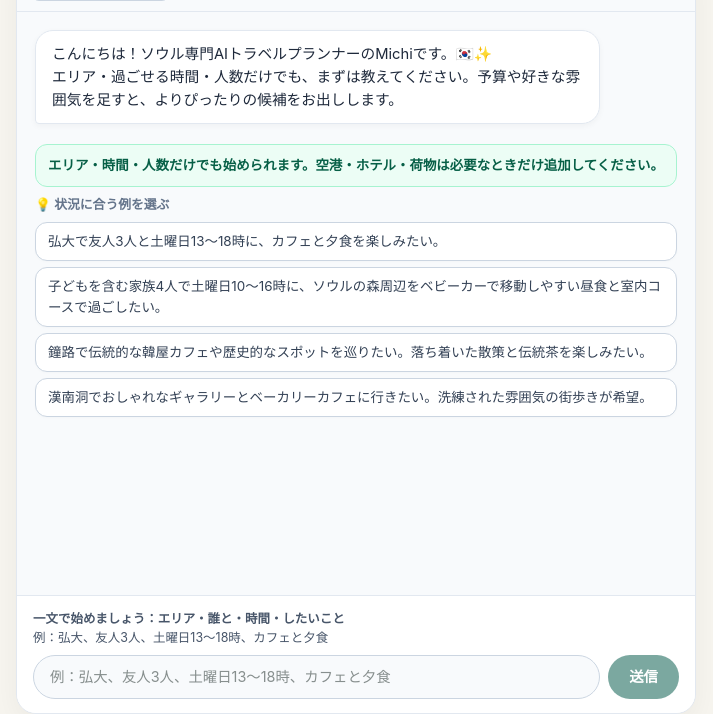
it: GenerativeChatPlanner › sends the requested response language for 한국어로 답해 주세요. 홍대 점심을 추천해줘
(page scrolled)
Type "한국어로 답해 주세요. 홍대 점심을 추천해줘" into the field.
click(317, 677); type("한국어로 답해 주세요. 홍대 점심을 추천해줘")  # box [33, 655, 600, 699]
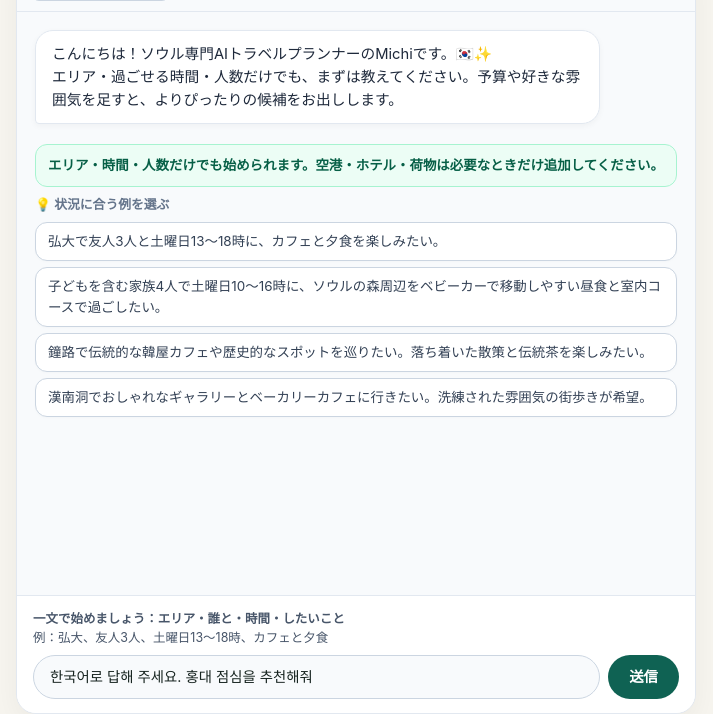
Click the button "送信".
click(644, 677)  # box [608, 655, 679, 699]
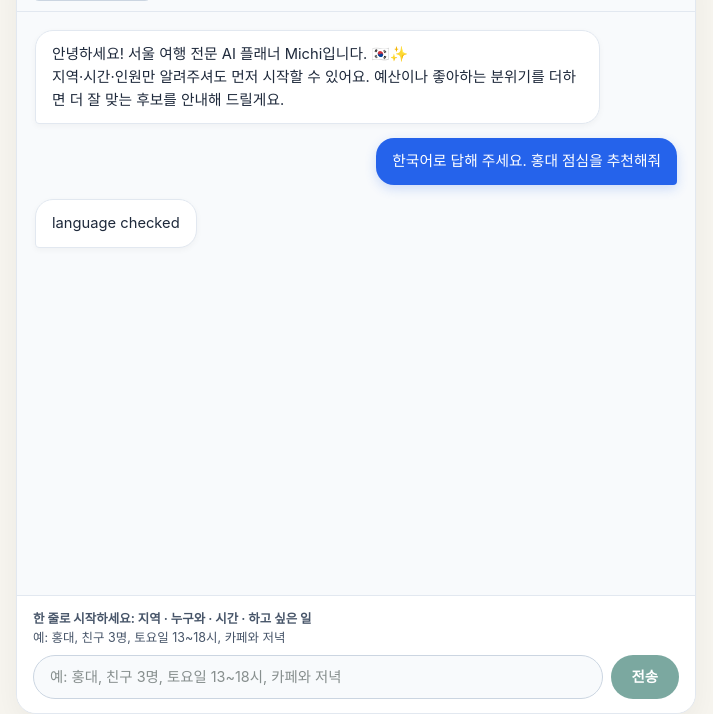
Result: the text "language checked" is shown at [35, 199, 197, 248]
